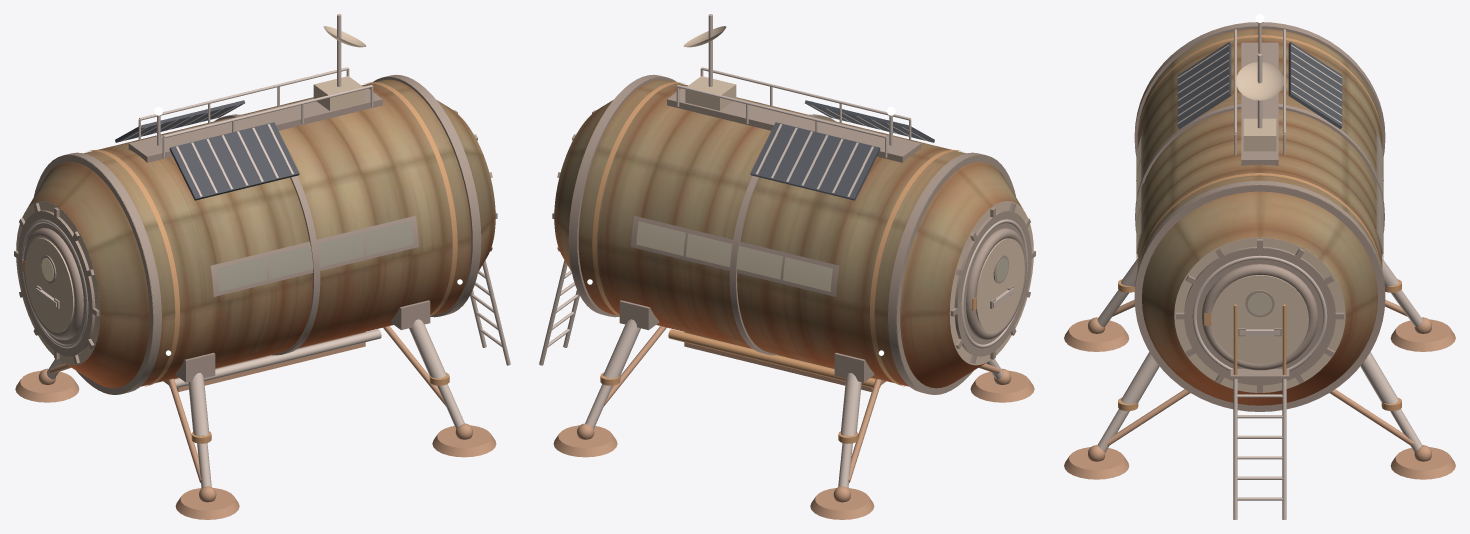
The model's file is W01_dust3_heavy.glb.
The picture shows the model from 3 angles, left to right: view 1: azimuth 30°, elevation 25°; view 2: azimuth 150°, elevation 25°; view 3: azimuth 270°, elevation 25°; orthographic projection.
Parts seen in each view (by area): view 1: hull, cone_rib, hatch_light_ring, end_plate, leg_brace, hatch_porthole; view 2: hull, cone_rib, end_plate, hatch_light_ring, leg_brace, hatch_porthole; view 3: hull, cone_rib, end_plate, hatch_light_ring, leg_brace, hatch_porthole, antenna_dish.
Part boxes in pixels (x1,y1,x2,y2): hull: [26, 79, 495, 388]; cone_rib: [14, 74, 497, 394]; hatch_light_ring: [22, 14, 510, 487]; end_plate: [16, 76, 474, 443]; leg_brace: [15, 326, 496, 519]; hatch_porthole: [41, 221, 413, 291]; hull: [554, 79, 1023, 388]; cone_rib: [552, 74, 1035, 394]; end_plate: [575, 76, 1033, 443]; hatch_light_ring: [539, 14, 1027, 487]; leg_brace: [553, 326, 1034, 519]; hatch_porthole: [636, 221, 1008, 291]; hull: [1137, 28, 1382, 405]; cone_rib: [1134, 22, 1385, 411]; end_plate: [1118, 35, 1401, 410]; hatch_light_ring: [1097, 22, 1422, 519]; leg_brace: [1064, 299, 1455, 479]; hatch_porthole: [1136, 136, 1383, 315]; antenna_dish: [1236, 62, 1283, 100].
Size of the model in its own units: 6.52 by 5.25 by 4.8.
Materials: 9 (1 with a texture image).
